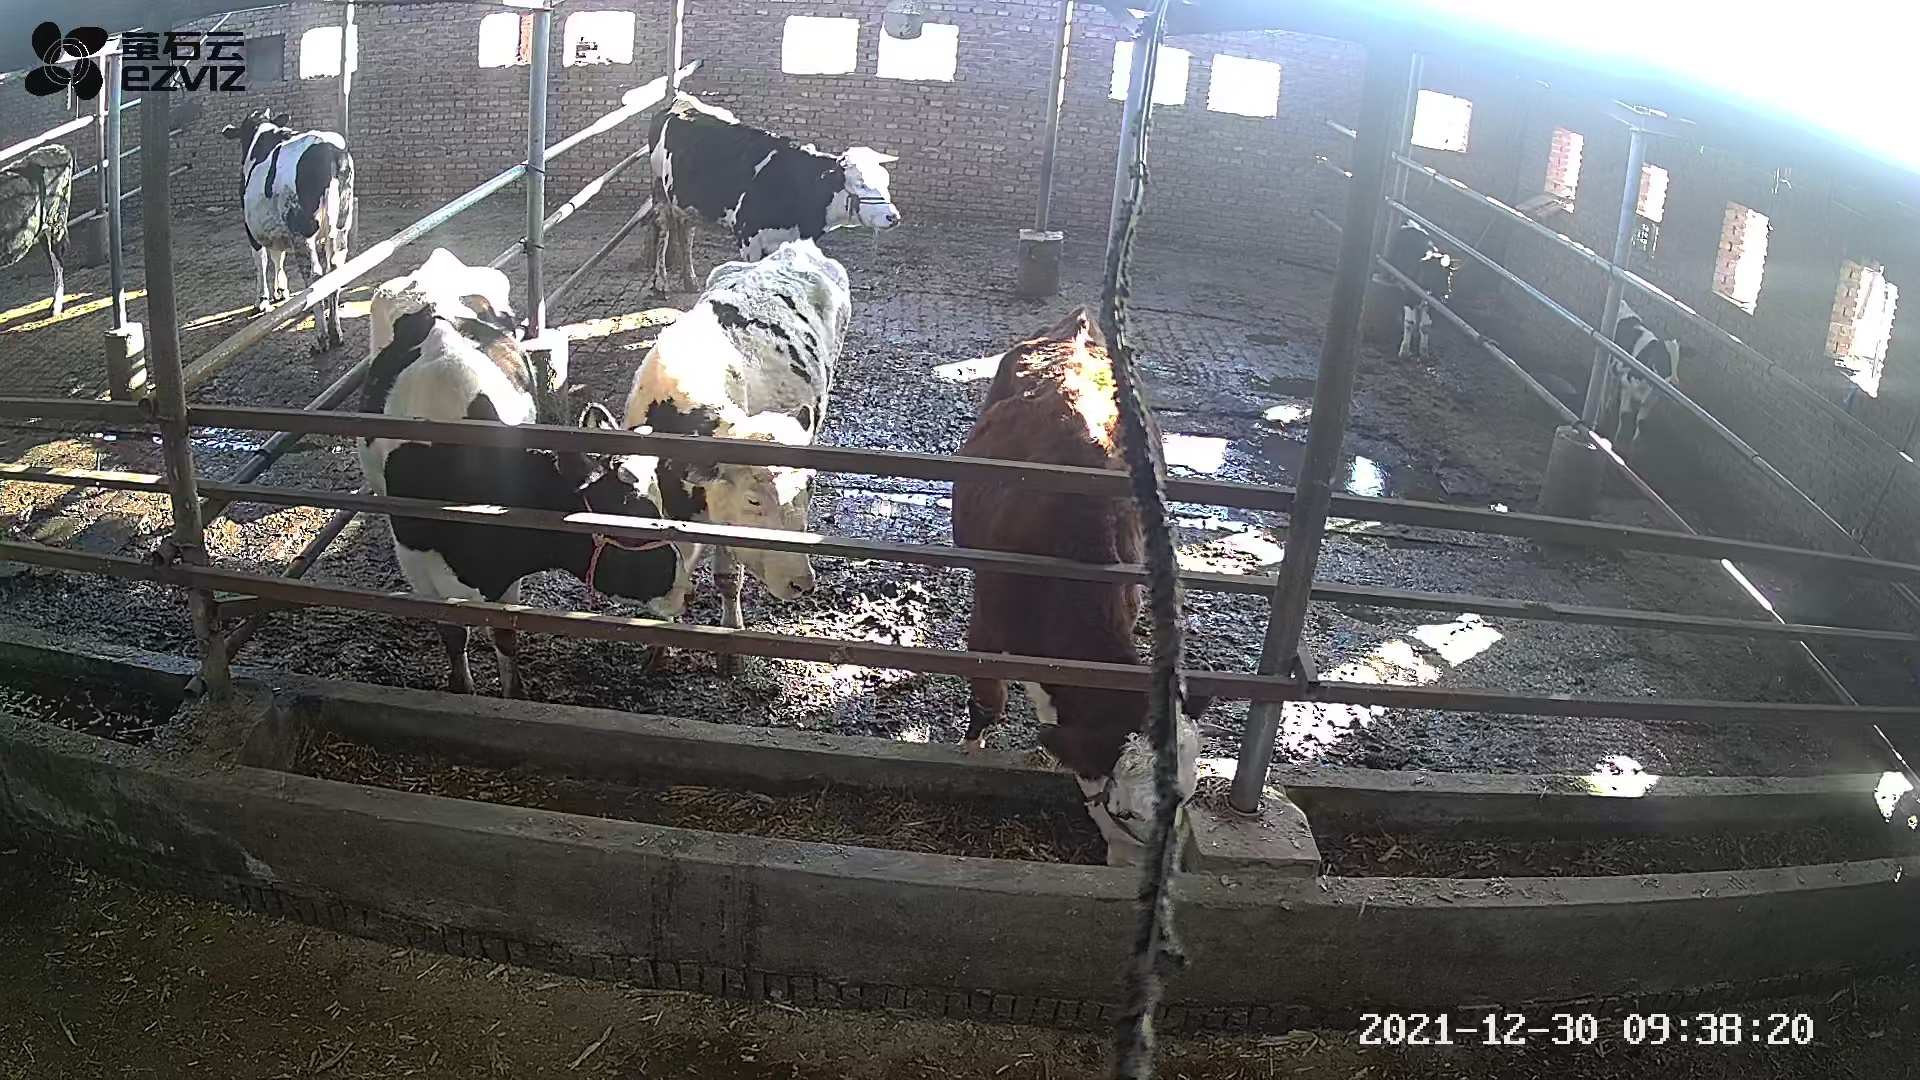cow: (353, 247, 698, 700), (949, 305, 1215, 876), (616, 235, 855, 675), (644, 86, 903, 302)
